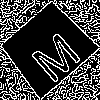M: (22, 23, 84, 85)
